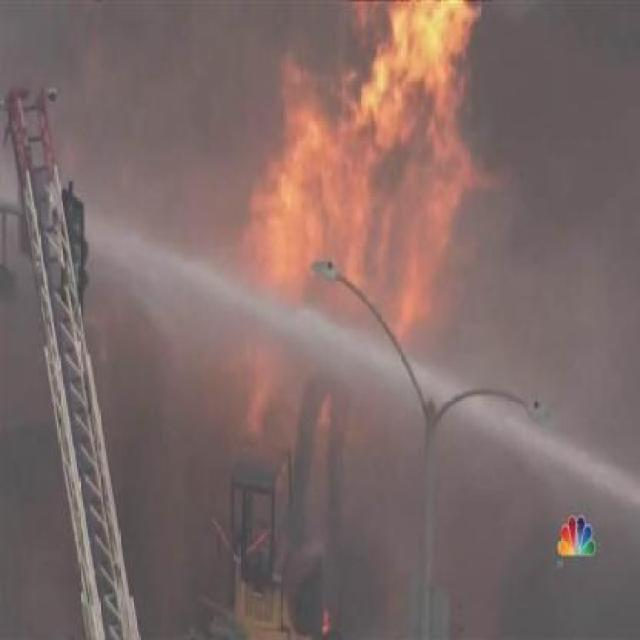Fire: (266, 8, 479, 438)
Smoke: (10, 14, 284, 640), (469, 0, 640, 640)
